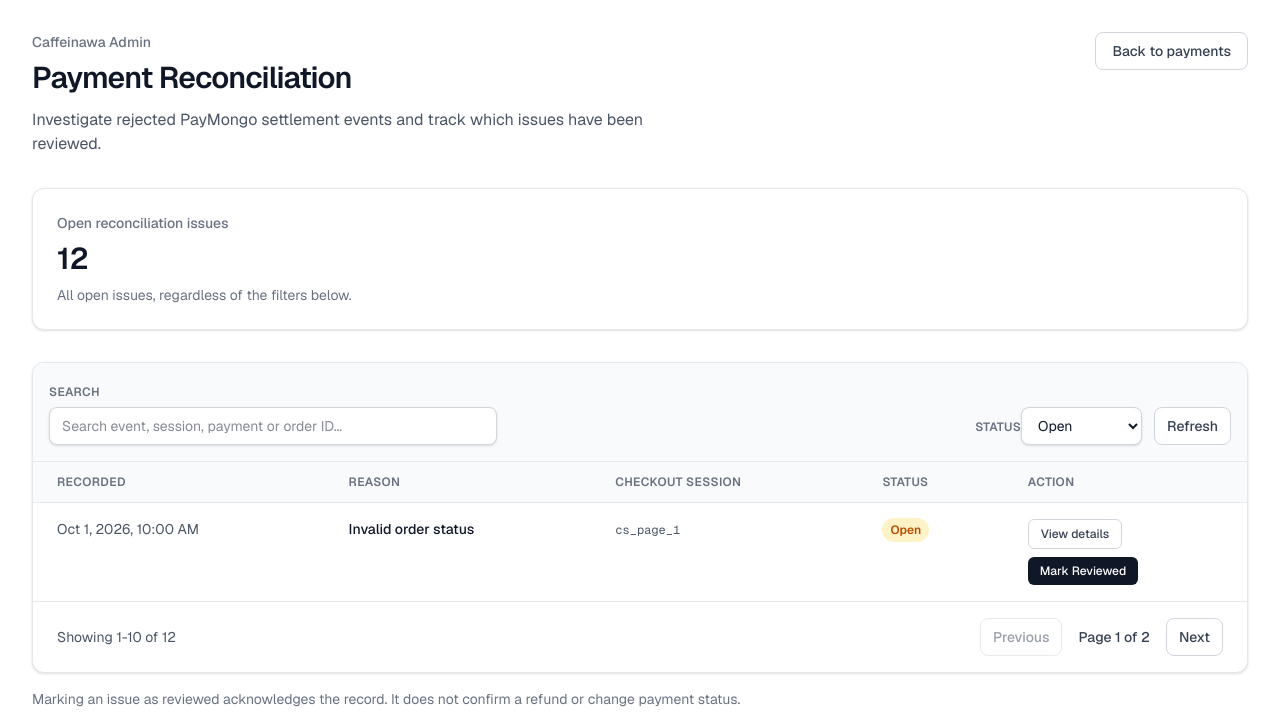
Scenario: AdminPaymentReconciliationPage › loads the next page when pagination changes
Expected: the text "cs_page_1" is shown, [615,522,680,538]
Click the button "Next" at (1194, 637), box [1166,618,1223,656]
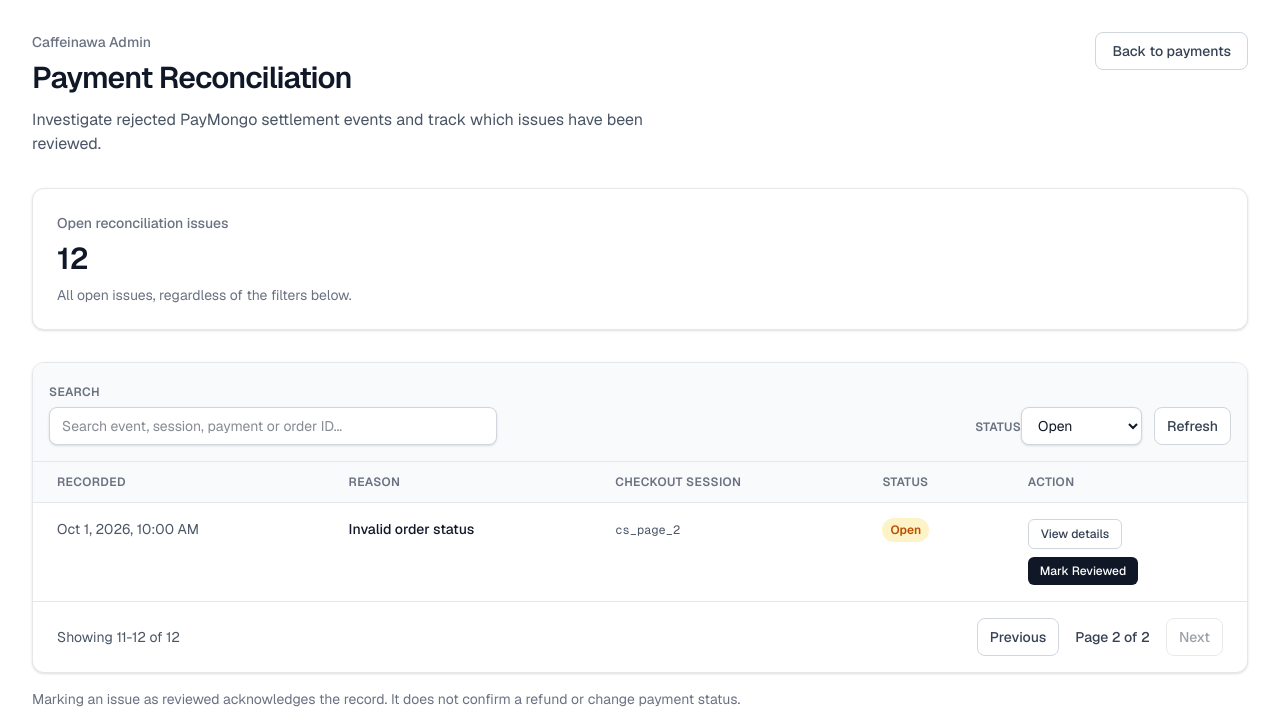
Expected: the text "cs_page_2" is shown, [615,522,680,538]
